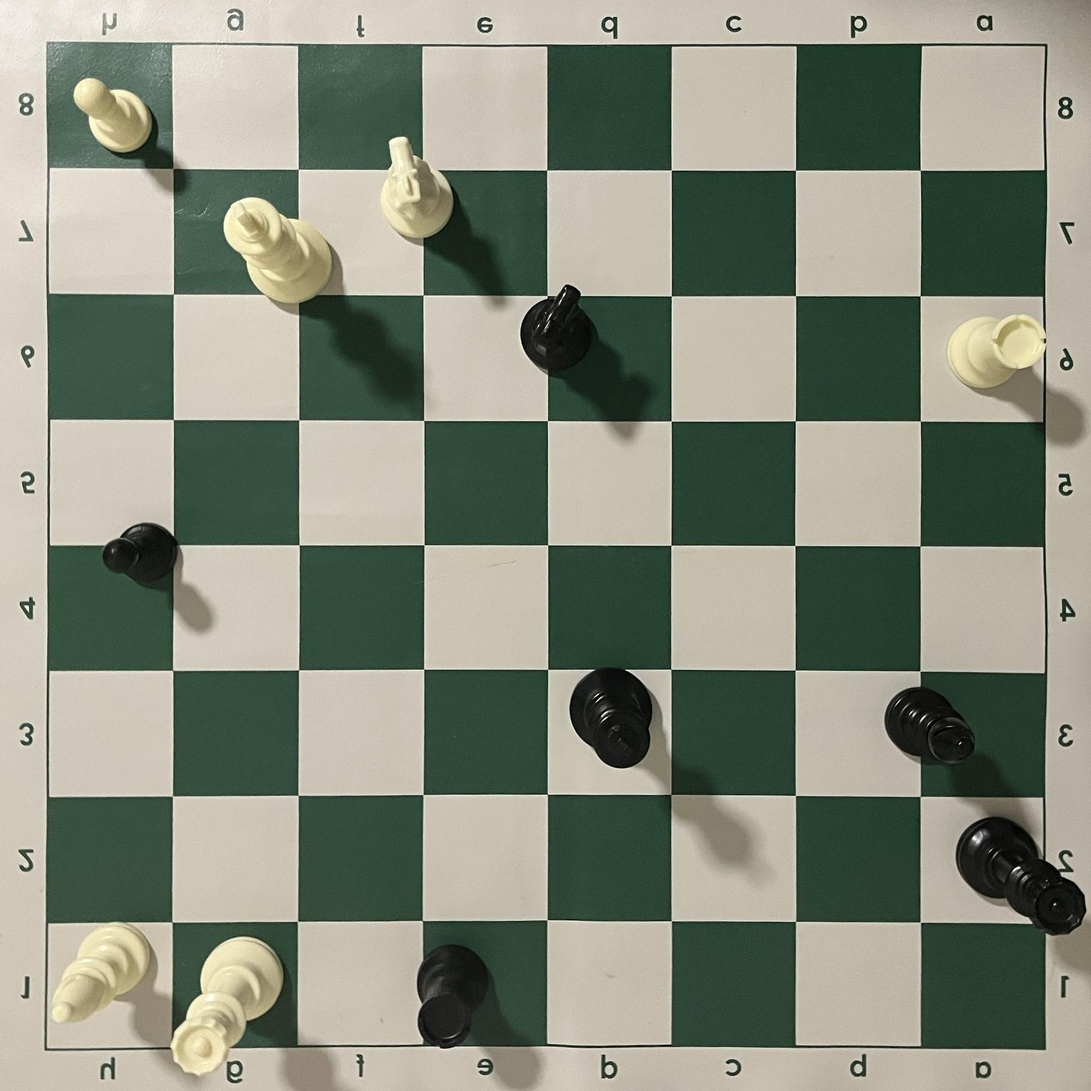black_bishop: (884, 686, 975, 764)
black_king: (569, 667, 654, 770)
black_knight: (519, 284, 592, 372)
black_pawn: (101, 522, 179, 585)
black_queen: (955, 816, 1087, 936)
black_rook: (416, 942, 490, 1048)
white_bishop: (51, 922, 150, 1025)
white_king: (223, 196, 335, 305)
white_knight: (380, 136, 454, 239)
white_pawn: (73, 77, 153, 154)
white_queen: (169, 935, 285, 1078)
white_rook: (946, 313, 1048, 392)
